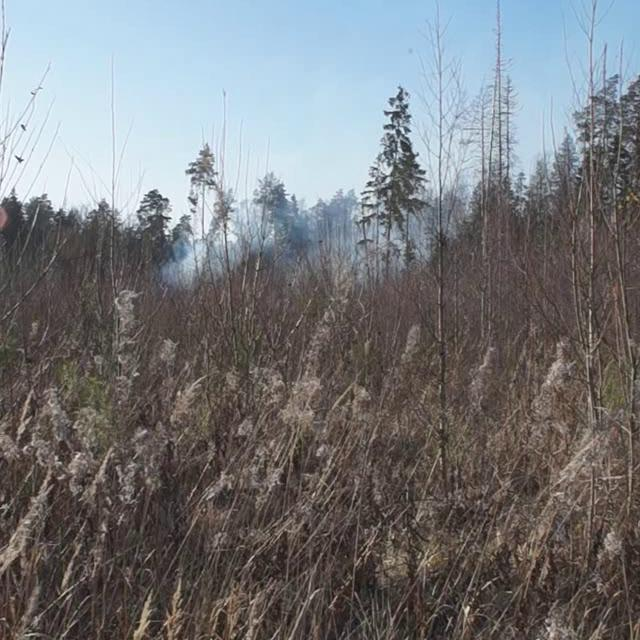Smoke: (147, 170, 476, 307)
